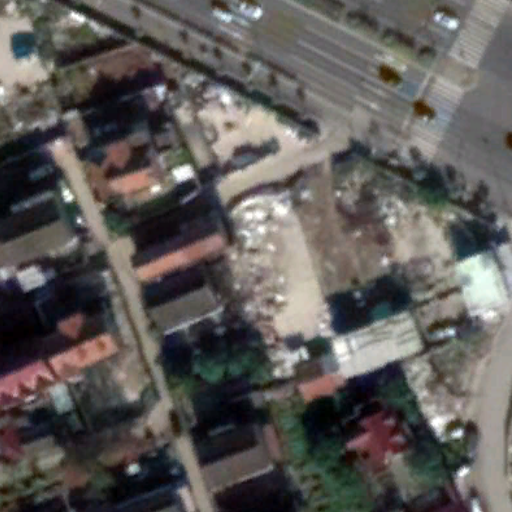msw: (227, 193, 320, 378)
